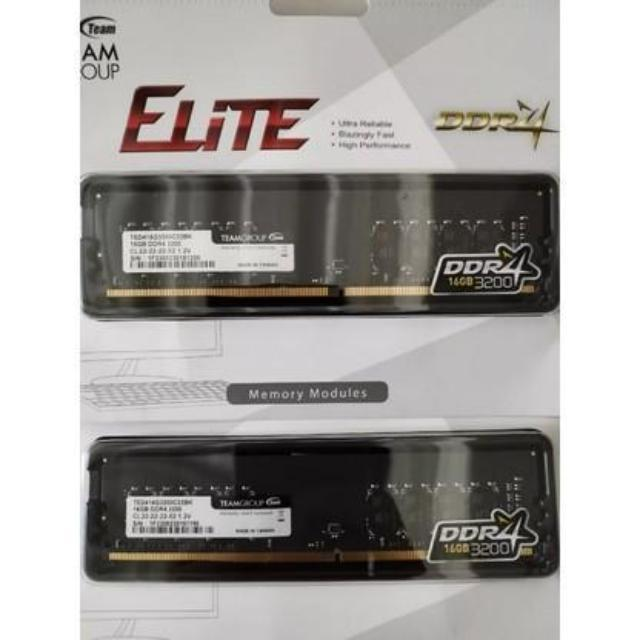RAM: (82, 170, 542, 302), (98, 447, 540, 564)
